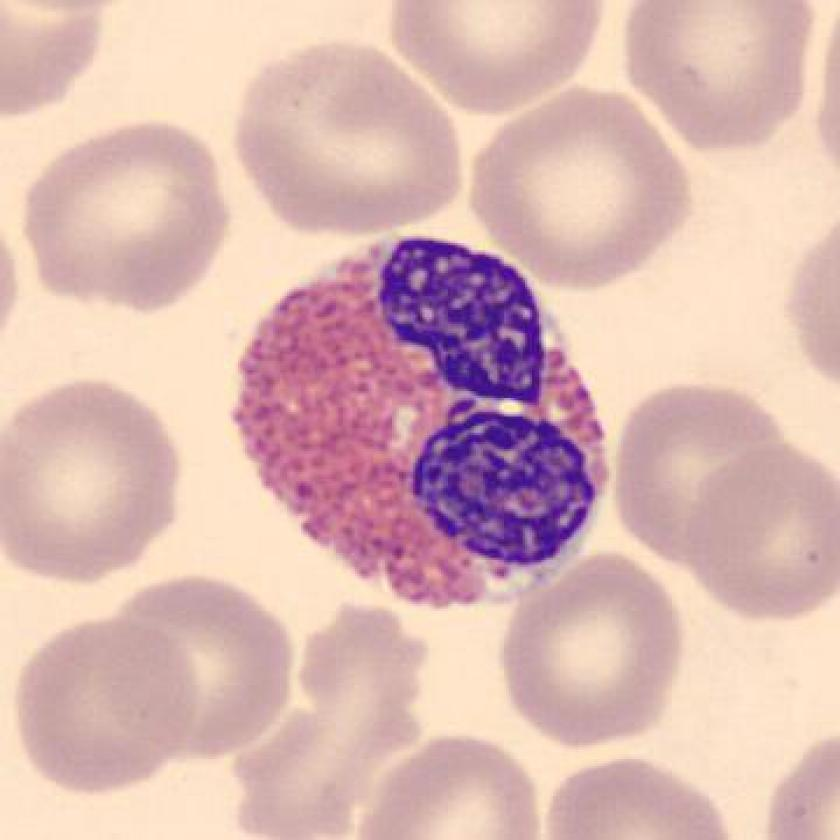eosinophil: (220, 228, 624, 623)
